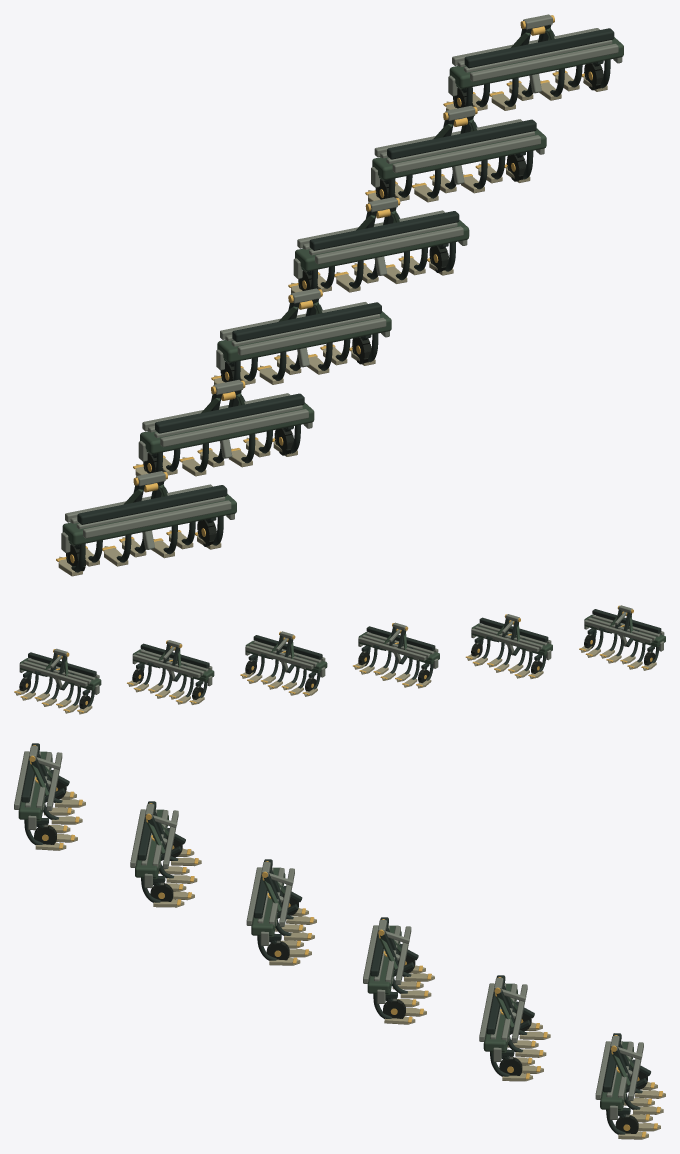
File: audit-hf-cultivator-compact-work-tq.glb
3 renders of one model, top to bottom at view 1: azimuth 30°, elevation 25°; view 2: azimuth 150°, elevation 25°; view 3: azimuth 270°, elevation 25°, orthographic. The views are drawn at different scales.
Parts seen in each view (by area): view 1: cultivatorToolbar (×6), toolbarCrossRail1 (×6), cultivatorFrame (×6); view 2: cultivatorToolbar (×6), toolbarCrossRail4 (×6), toolbarCrossRail3 (×6), toolbarCrossRail2 (×6), cultivatorFrame (×3); view 3: no part large enough to name.
Boxes of the visible parts, box(x1,y1,x2,y2) form: cultivatorToolbar (×6): box(77, 28, 614, 524); toolbarCrossRail1 (×6): box(83, 43, 618, 538); cultivatorFrame (×6): box(62, 37, 623, 545); cultivatorToolbar (×6): box(28, 609, 661, 676); toolbarCrossRail4 (×6): box(19, 620, 652, 686); toolbarCrossRail3 (×6): box(23, 617, 655, 684); toolbarCrossRail2 (×6): box(27, 615, 659, 680); cultivatorFrame (×3): box(19, 640, 327, 689).
Size of what is drawn, in the model's own units: 17.85 by 1.71 by 13.97.
